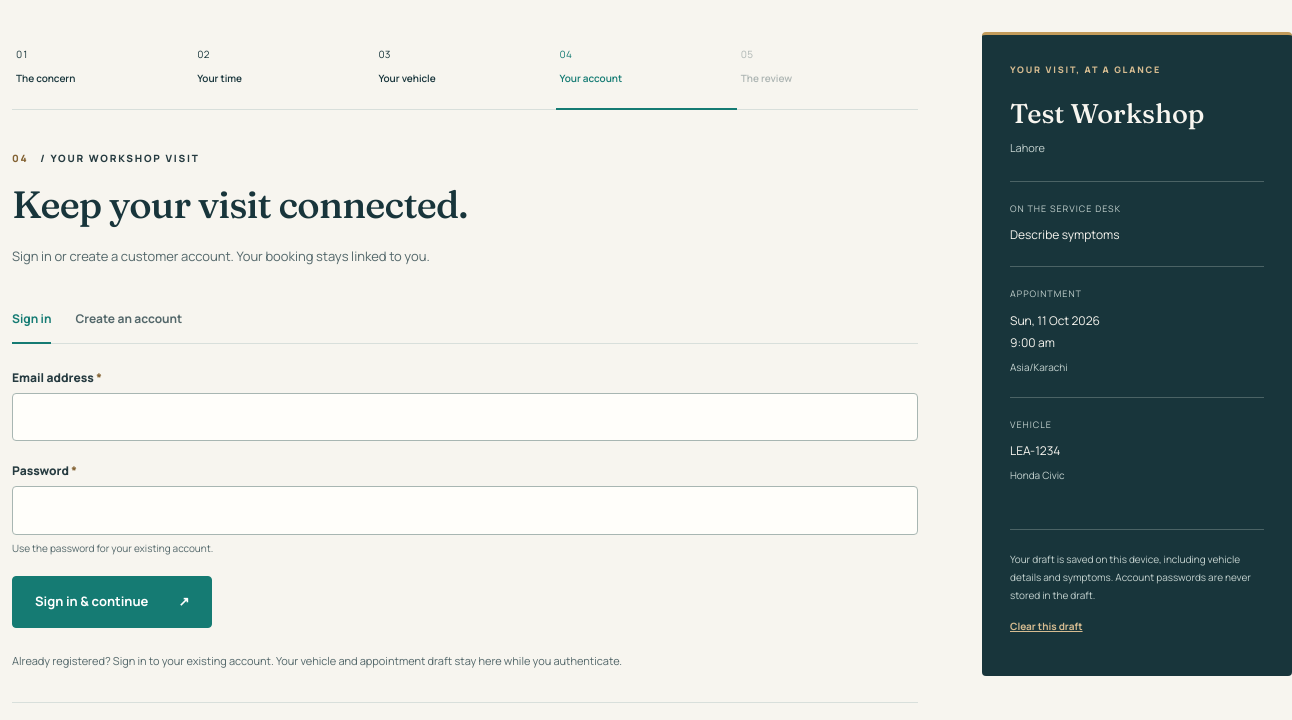
authenticates inline for a symptom-only draft and preserves the draft without saving passwords
Expected: the button "Sign in & continue ↗" is shown, [12,576,212,628]
Type "customer@example.test" into the field labelled "Email address *" at (465, 417), box [12,393,918,441]
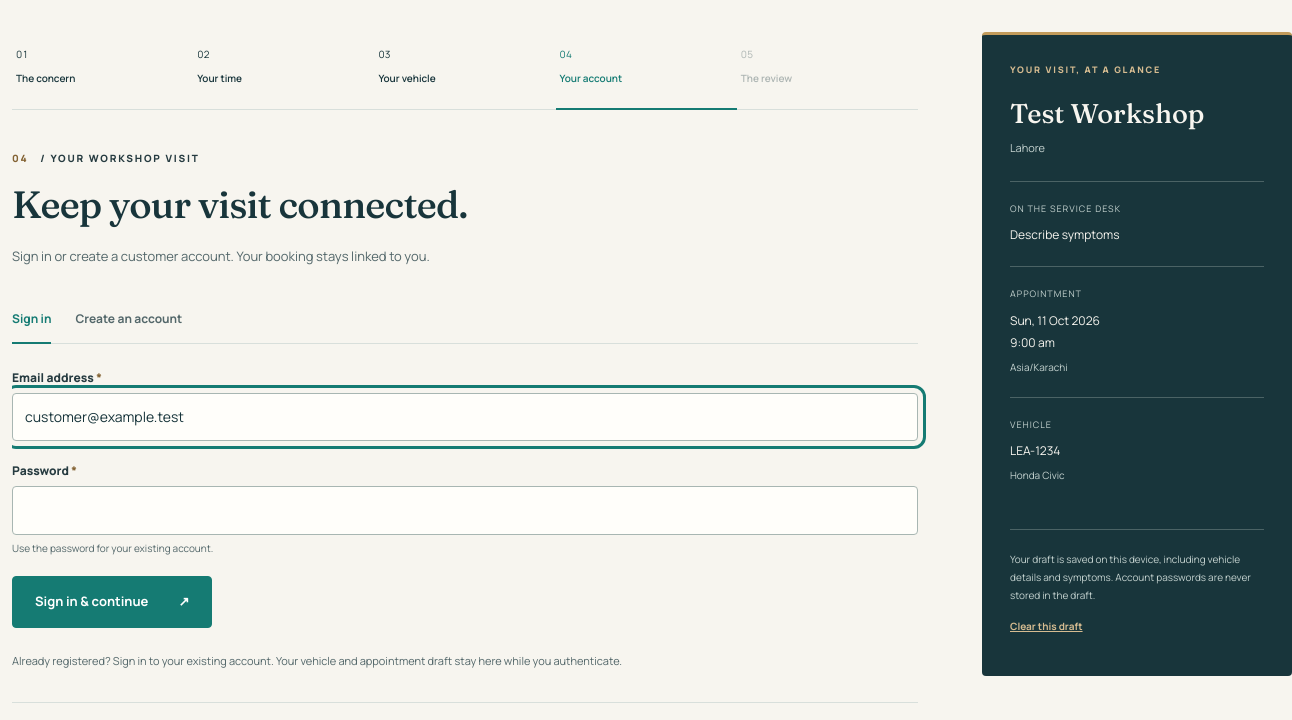
Type "Test-Password-123!" into the password field labelled "Password *" at (465, 511), box [12,486,918,535]
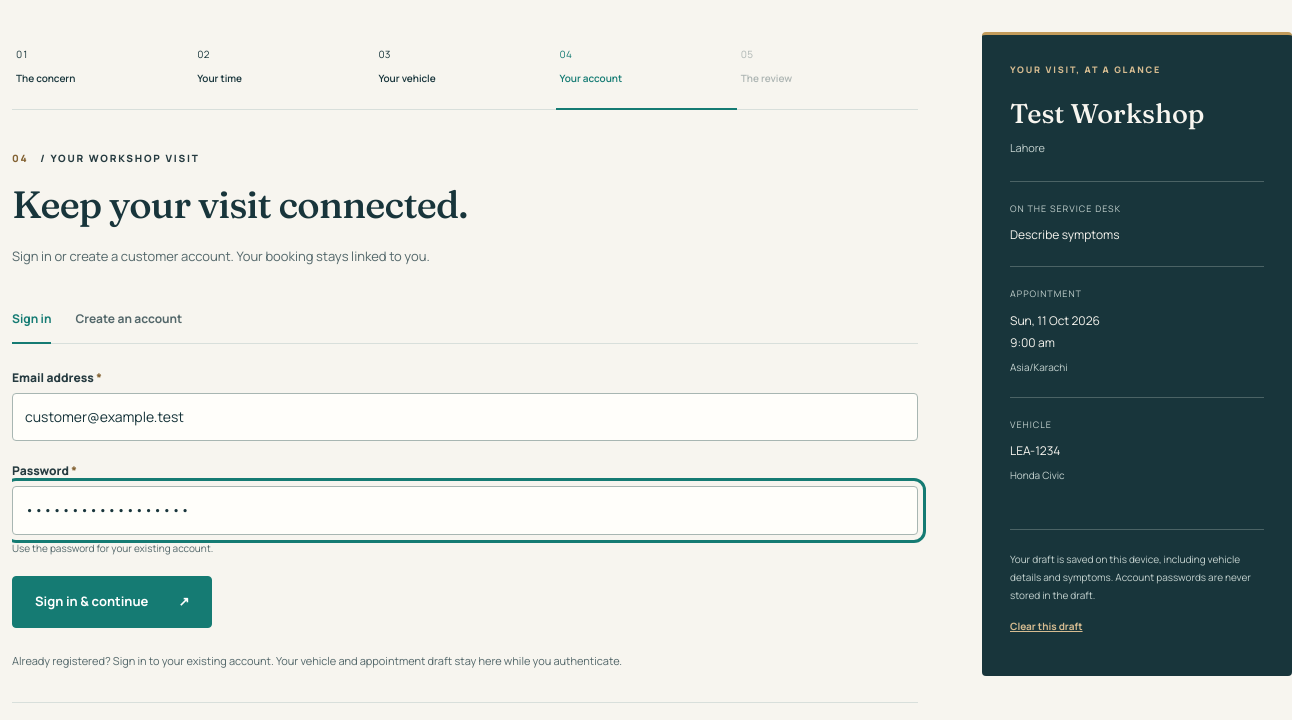
Click the button "Sign in & continue ↗" at (112, 602), box [12,576,212,628]
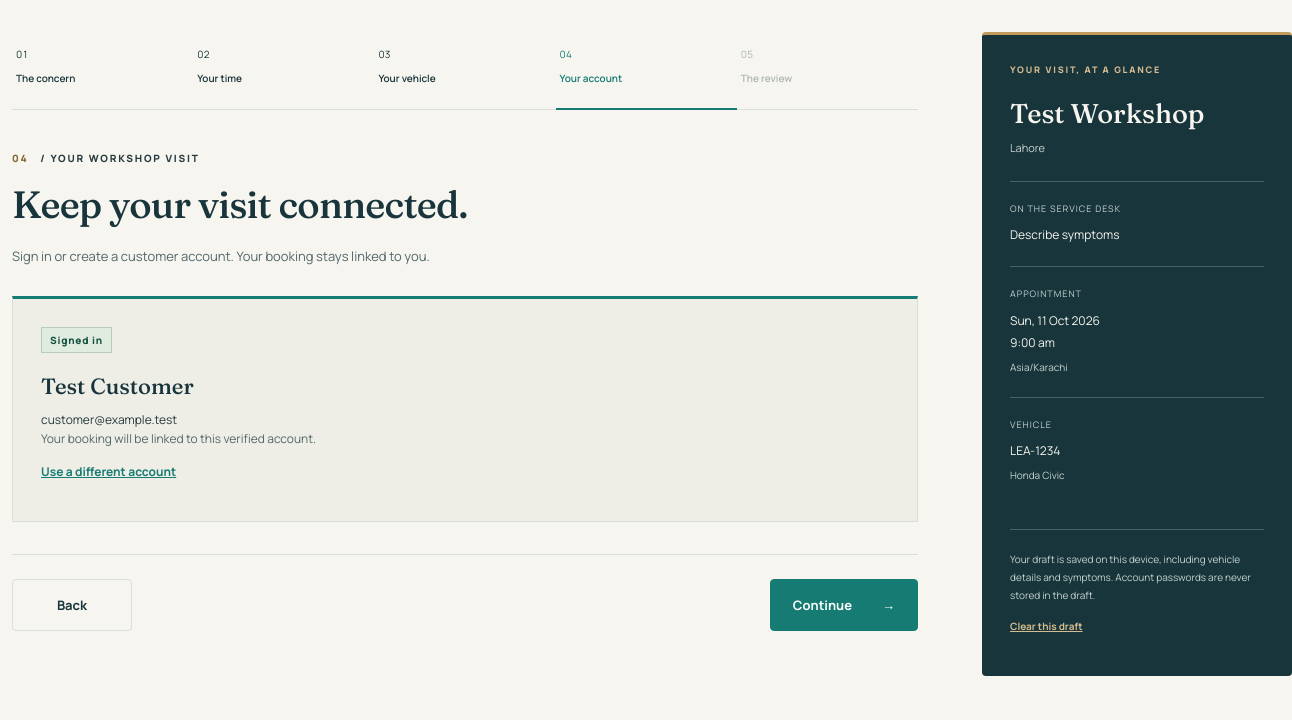
Expected: the text "Signed in" is shown, [41,327,112,353]
Click the button "Continue →" at (844, 605), box [770,579,918,631]
(page scrolled)
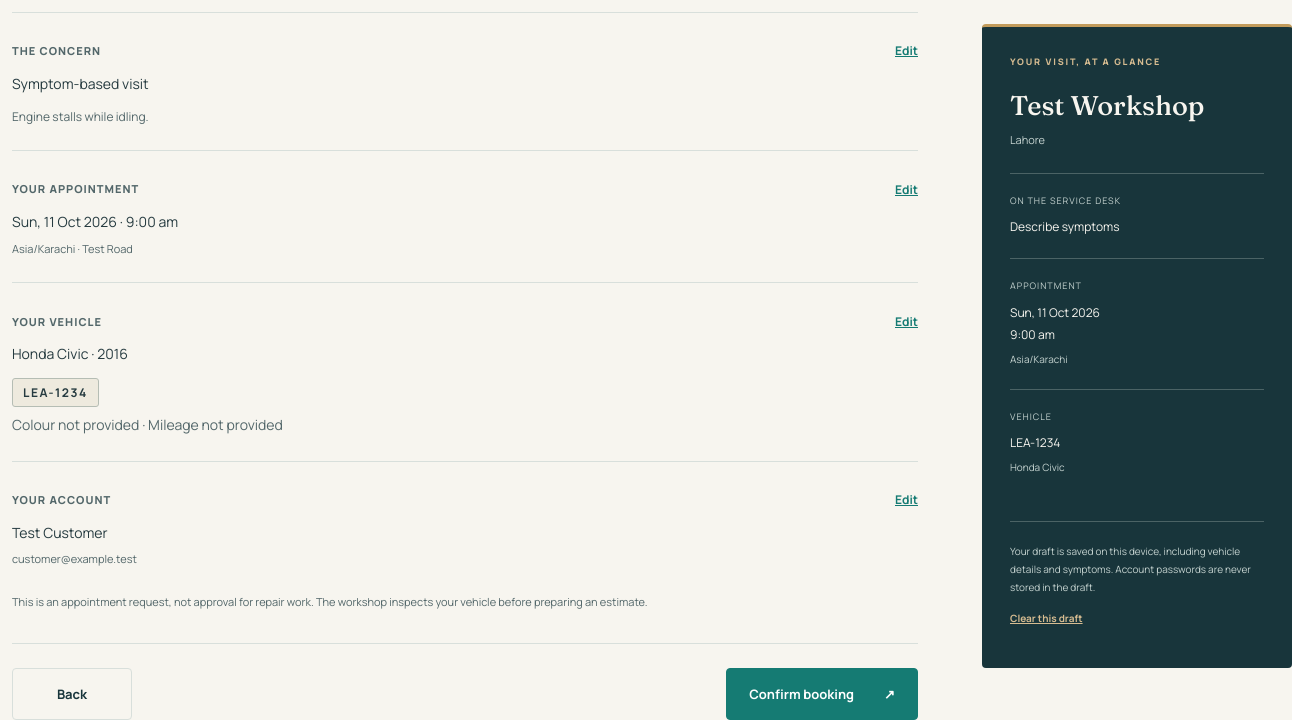
Click the button "Confirm booking ↗" at (822, 694), box [726,668,918,719]
(page scrolled)
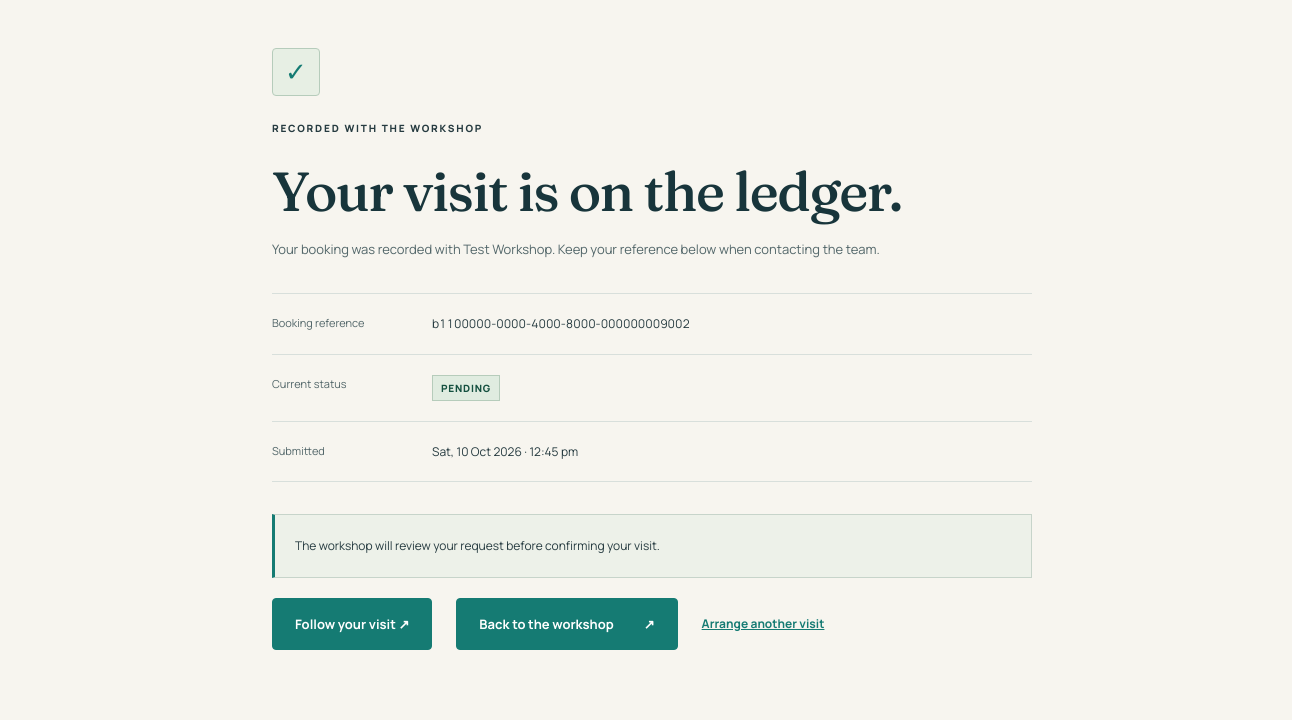
Expected: the heading "Your visit is on the ledger." is shown, [272,157,902,225]
